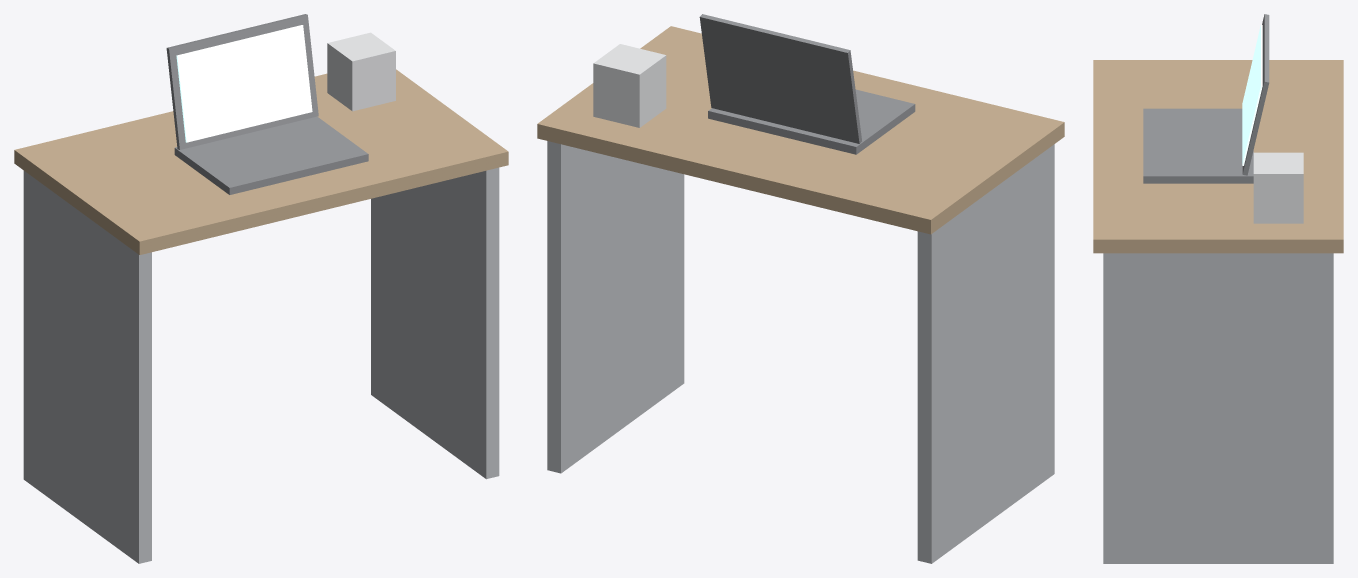
The model's file is desk.glb.
3 renders of one model, left to right at view 1: azimuth 30°, elevation 25°; view 2: azimuth 150°, elevation 25°; view 3: azimuth 270°, elevation 25°, orthographic. The views are drawn at different scales.
Visible parts, largest first — view 1: desk; view 2: desk; view 3: desk.
Boxes of the visible parts, box(x1,y1,x2,y2) form: desk: box(14, 14, 508, 563); desk: box(537, 14, 1064, 563); desk: box(1093, 14, 1343, 563).
Size of the model in its own units: 0.85 by 0.9447 by 0.5.
